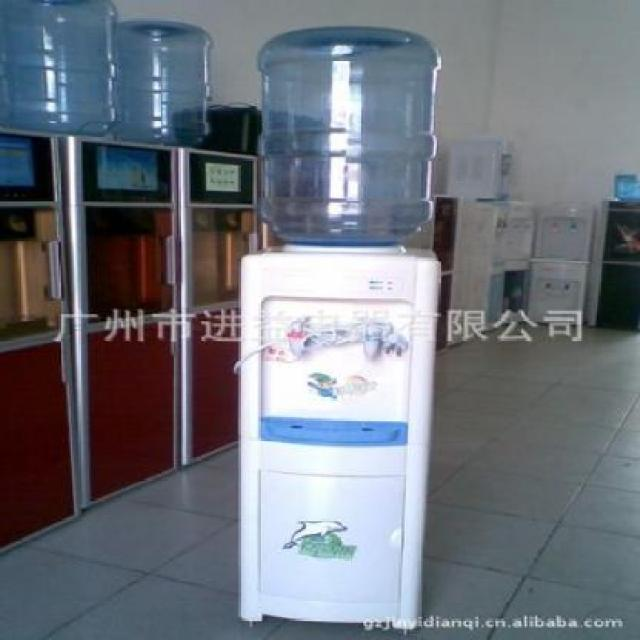cooler: (237, 22, 447, 639)
